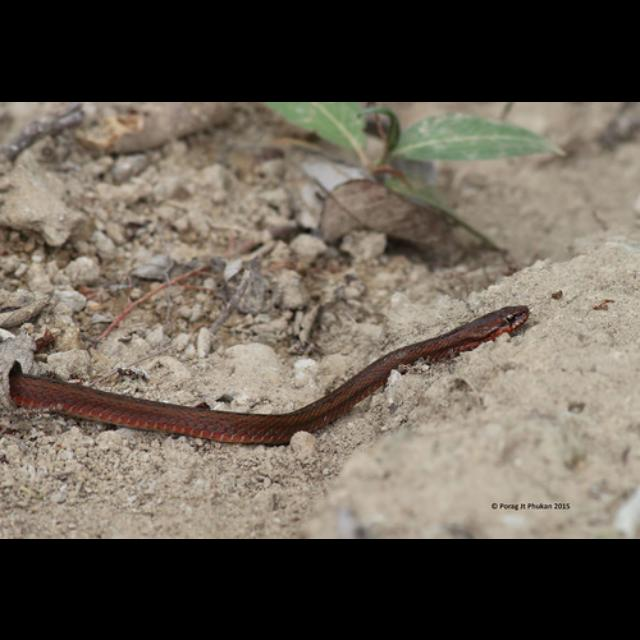snake: (8, 302, 538, 450)
